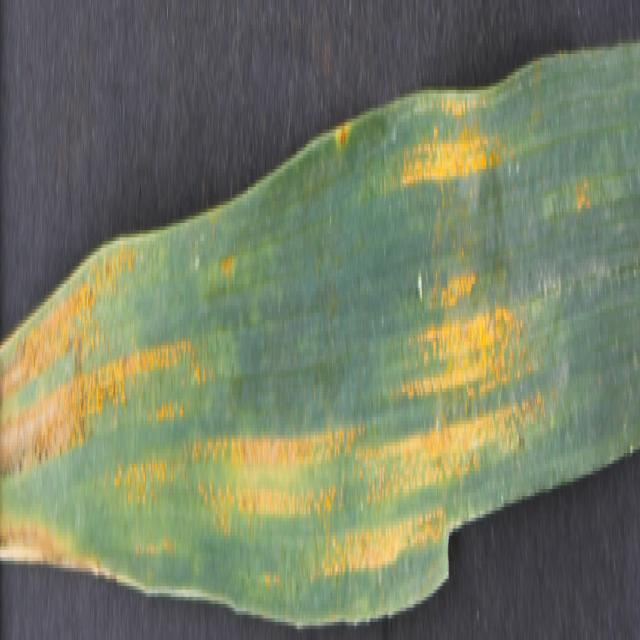leaf rust: (1, 122, 550, 572)
